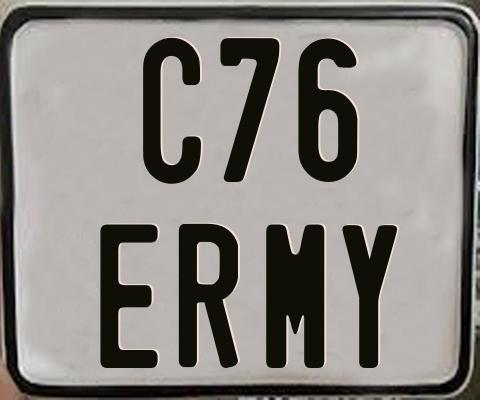6: (297, 37, 361, 184)
7: (218, 37, 279, 182)
C: (143, 35, 207, 183)
E: (99, 221, 163, 366)
M: (266, 222, 327, 368)
R: (176, 224, 241, 371)
Y: (339, 225, 397, 370)
